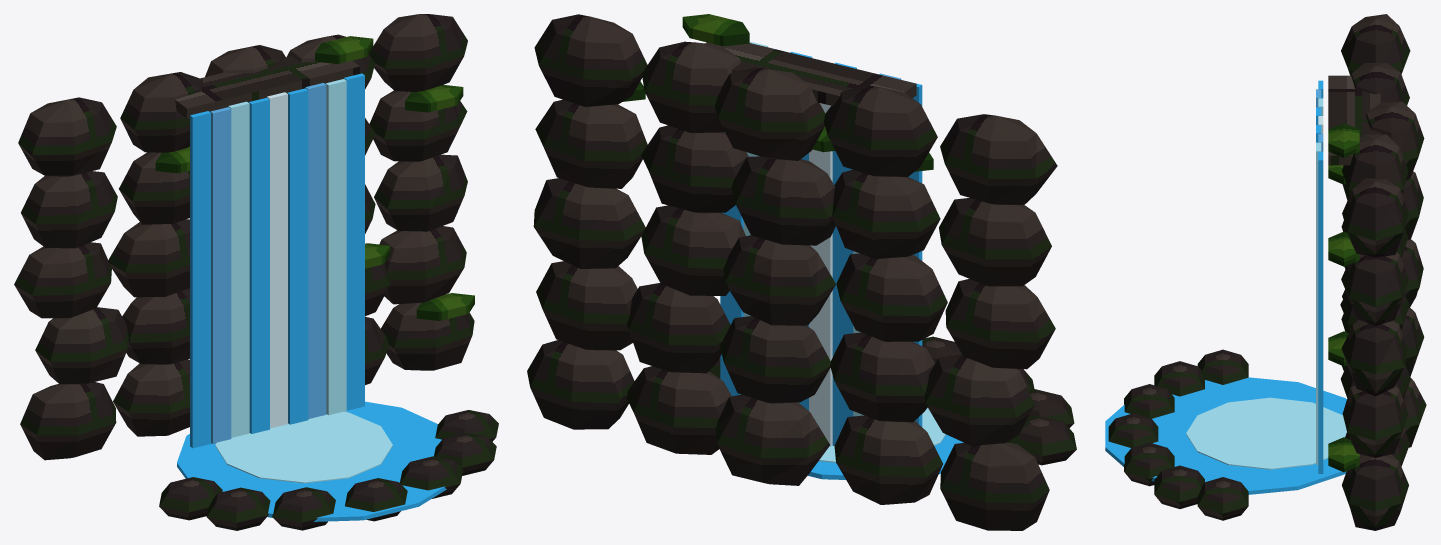
The model's file is waterfall.glb.
The picture shows the model from 3 angles, left to right: view 1: azimuth 30°, elevation 25°; view 2: azimuth 150°, elevation 25°; view 3: azimuth 270°, elevation 25°; orthographic projection. The views are drawn at different scales.
Visible parts, largest first — view 1: waterfall; view 2: waterfall; view 3: waterfall.
Boxes of the visible parts, left/top/right/bottom form: waterfall: left=14, top=14, right=498, bottom=530; waterfall: left=527, top=14, right=1076, bottom=530; waterfall: left=1105, top=14, right=1426, bottom=530.
Bounding box in the file's own units: 4.71 × 3.73 × 3.05.
Materials: 3 (2 with a texture image).
